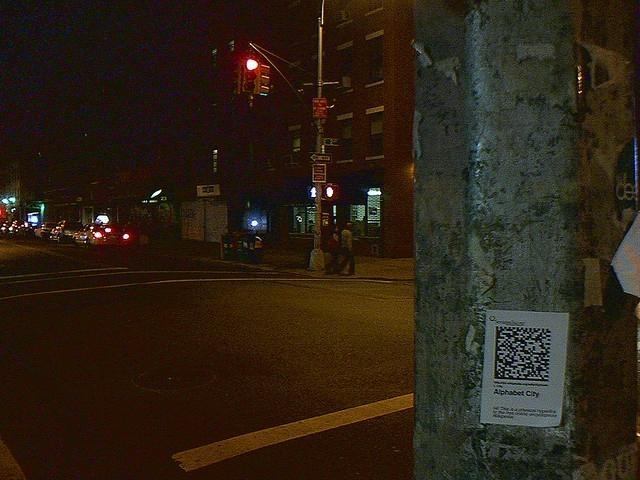car: (72, 222, 134, 250), (50, 221, 80, 243), (34, 222, 59, 240), (64, 231, 74, 237)
